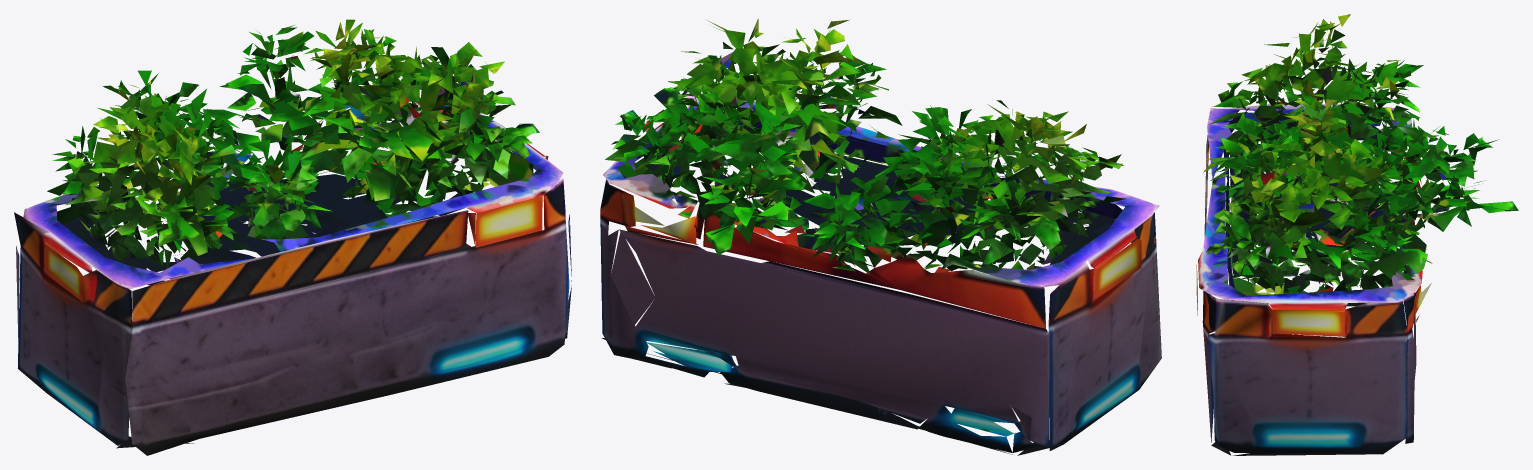
Rendered from h3-planter.glb.
3 renders of one model, left to right at view 1: azimuth 30°, elevation 25°; view 2: azimuth 150°, elevation 25°; view 3: azimuth 270°, elevation 25°, orthographic. The views are drawn at different scales.
Visible parts, largest first — view 1: tmpmvdv44og.ply; view 2: tmpmvdv44og.ply; view 3: tmpmvdv44og.ply.
Part boxes in pixels (box(x1,y1,x2,y2)): tmpmvdv44og.ply: box(14, 19, 571, 455); tmpmvdv44og.ply: box(600, 18, 1161, 455); tmpmvdv44og.ply: box(1196, 14, 1518, 455).
Size of the model in its own units: 2.01 by 1.37 by 1.32.
1 material, 1 textured.
